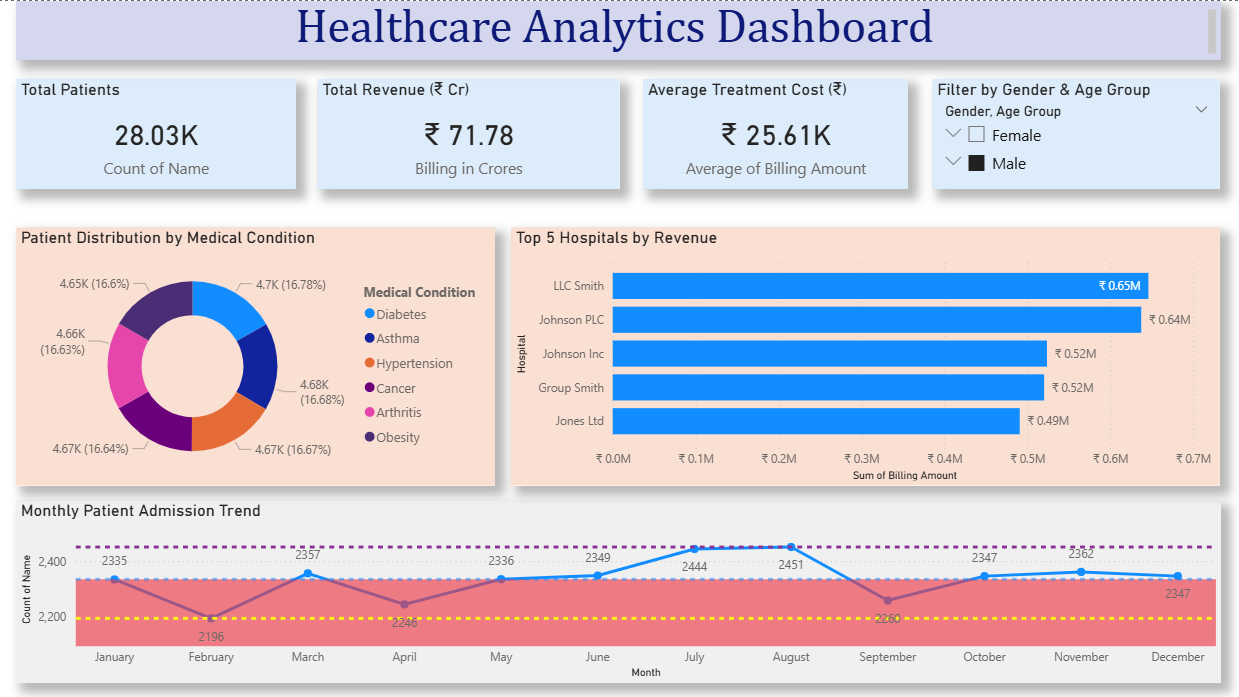

The page's visual inventory and layout, read from the dashboard file:
{"tool":"powerbi","page":{"name":"Page 1","canvas":[1280,720],"ordinal":0},"visuals":[{"type":"card","title":"Total Patients","fields":{"Values":["CountNonNull(final_healthcare_data.Name)"]},"box":[20.8,79.4,287.2,113.4],"z":0},{"type":"card","title":"Total Revenue (₹ Cr)","fields":{"Values":["final_healthcare_data.Billing in Crores"]},"box":[330.7,79.4,309.9,113.4],"z":1000},{"type":"card","title":"Average Treatment Cost (₹)","fields":{"Values":["Avg(final_healthcare_data.Billing Amount)"]},"box":[665.2,79.4,272.1,113.4],"z":2000},{"type":"slicer","title":"Filter by Gender & Age Group","fields":{"Values":["final_healthcare_data.Gender","final_healthcare_data.Age Group"]},"box":[961.9,79.4,294.8,113.4],"z":3000},{"type":"donutChart","title":"Patient Distribution by Medical Condition","fields":{"Category":["final_healthcare_data.Medical Condition"],"Y":["CountNonNull(final_healthcare_data.Name)"]},"box":[20.8,232.4,491.3,264.6],"z":4000},{"type":"lineChart","title":"Monthly Patient Admission Trend","fields":{"Y":["CountNonNull(final_healthcare_data.Name)"],"Category":["final_healthcare_data.Date of Admission.Variation.Date Hierarchy.Month"]},"box":[20.8,512.1,1235.9,187.1],"z":5000},{"type":"clusteredBarChart","title":"Top 5 Hospitals by Revenue","fields":{"Category":["final_healthcare_data.Hospital"],"Y":["Sum(final_healthcare_data.Billing Amount)"]},"box":[529.1,232.4,727.6,264.6],"z":6000},{"type":"textbox","box":[20.8,0,1235.9,60.5],"z":6001}]}

Visuals, with their boxes in screenshot pixels (x1, y1, x2, y2), scaled from the page's 1280x720 canvas onto the 1239x697 screenshot:
"Total Patients" card: rect(20, 77, 298, 187)
"Total Revenue (₹ Cr)" card: rect(320, 77, 620, 187)
"Average Treatment Cost (₹)" card: rect(644, 77, 907, 187)
"Filter by Gender & Age Group" slicer: rect(931, 77, 1216, 187)
"Patient Distribution by Medical Condition" donutChart: rect(20, 225, 496, 481)
"Monthly Patient Admission Trend" lineChart: rect(20, 496, 1216, 677)
"Top 5 Hospitals by Revenue" clusteredBarChart: rect(512, 225, 1216, 481)
textbox: rect(20, 0, 1216, 59)
